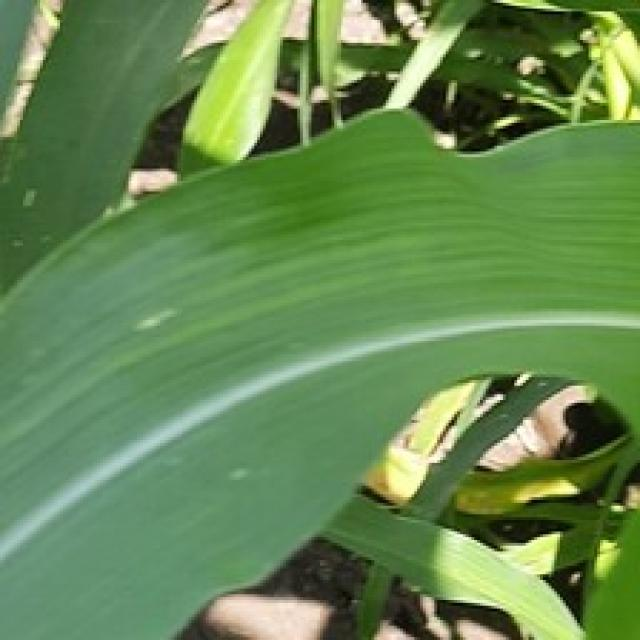Corn: (0, 103, 637, 637), (0, 0, 220, 311)
